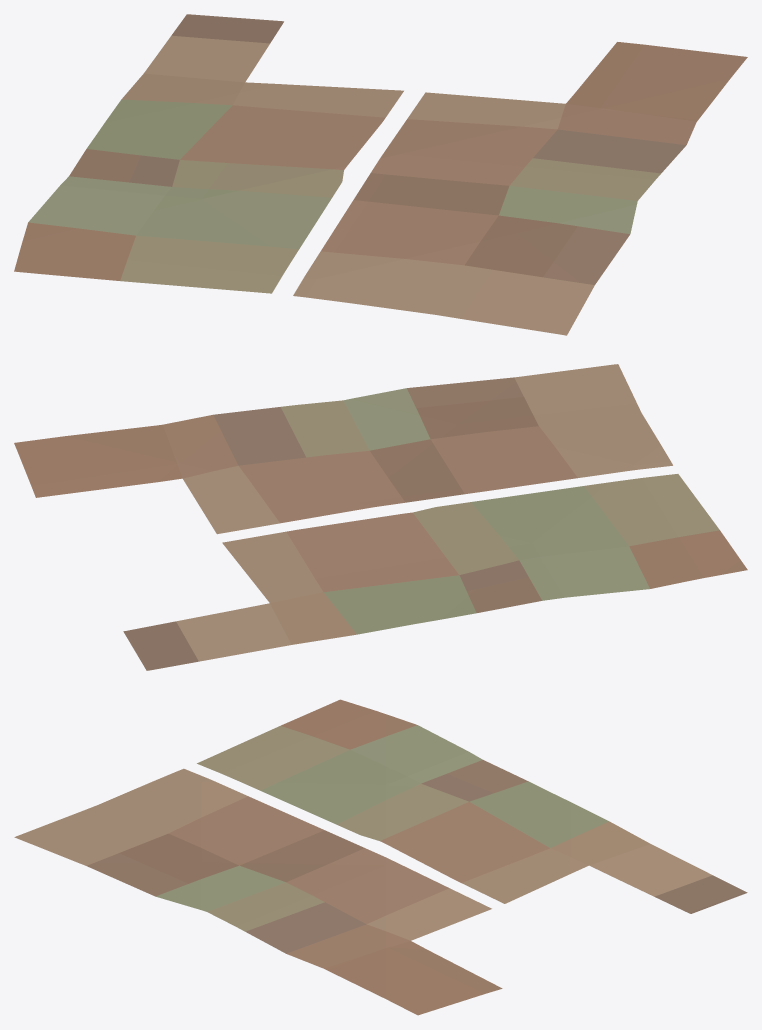
File: farm_5_-3_soil.glb
3 renders of one model, top to bottom at view 1: azimuth 30°, elevation 25°; view 2: azimuth 150°, elevation 25°; view 3: azimuth 270°, elevation 25°, orthographic. The views are drawn at different scales.
Parts seen in each view (by area): view 1: geometry_0; view 2: geometry_0; view 3: geometry_0.
Boxes of the visible parts, x1,y1,x2,y2 form: geometry_0: [14, 14, 747, 335]; geometry_0: [14, 364, 747, 670]; geometry_0: [14, 699, 747, 1015].
Size of the model in its own units: 314 by 13.55 by 318.
